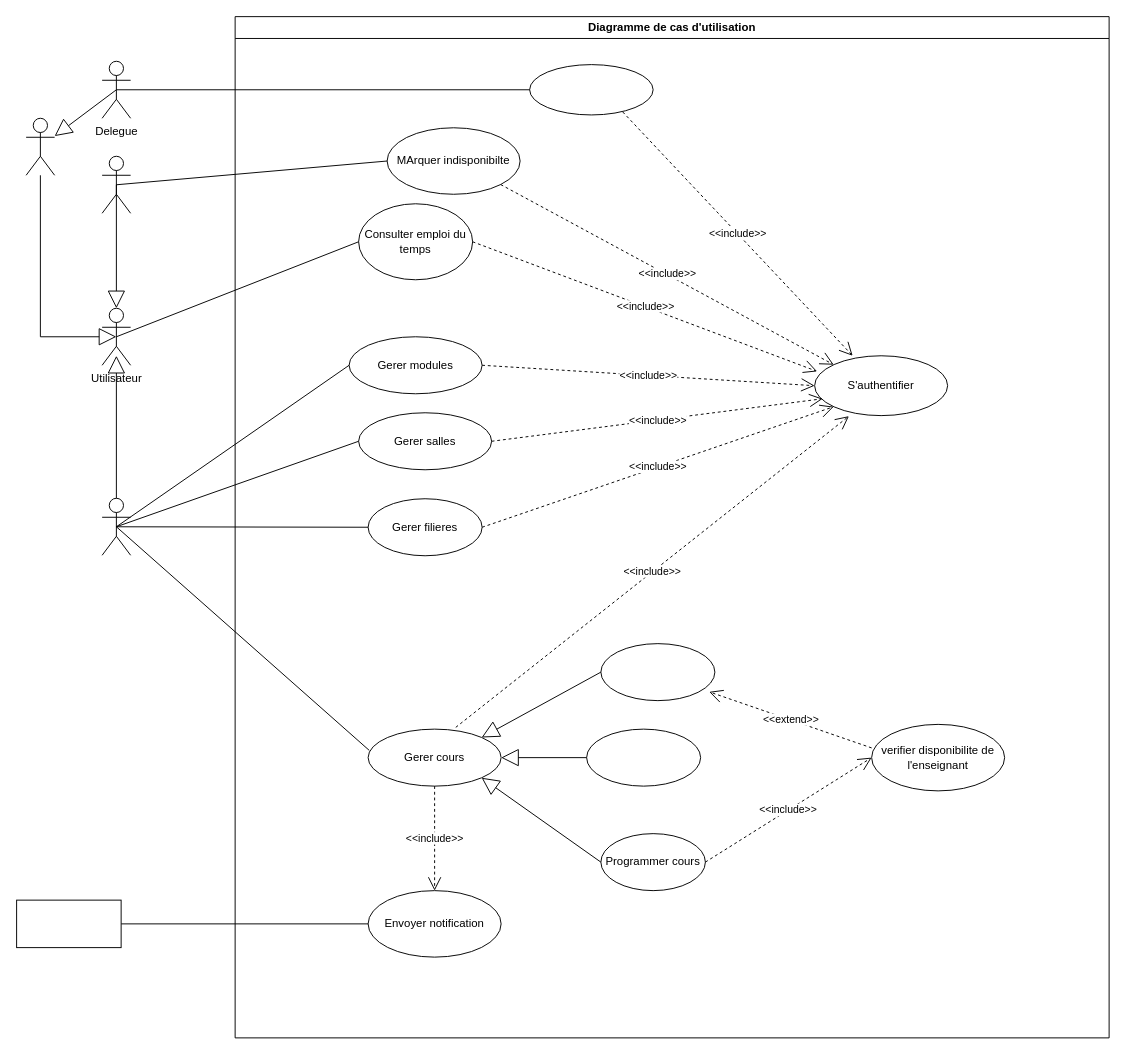
Some shapes in this 1126 by 1055 pixel diagram are drawn without their labels. Each missing label, with the centre of its shape:
Administrateur: the point at 116,526
Annuler un cours: the point at 643,757
Enseignant: the point at 116,184
Etudiant: the point at 40,146
Horloge: the point at 68,923
marquer cours fait: the point at 591,89
Modifier un cours: the point at 657,672
